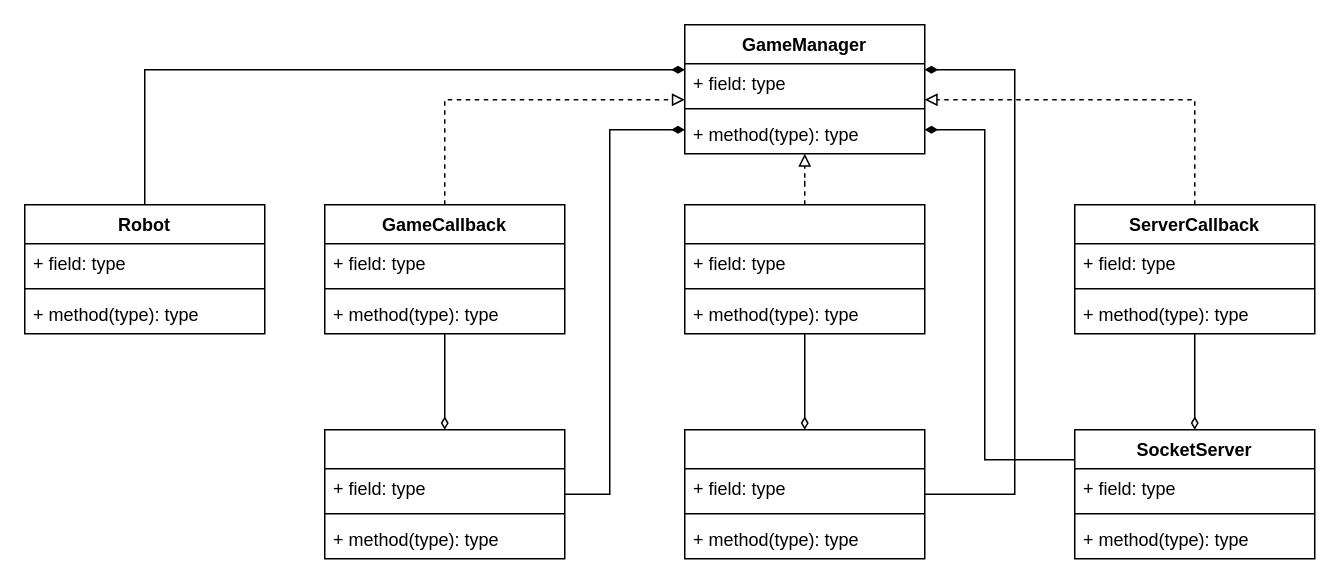
Some shapes in this 1340 by 584 pixel diagram are drawn without their labels. Here are the shapes that lost their labels. From the top down, the box of each, then its label:
(683, 203, 925, 334): UserInterfaceCallback
(323, 428, 565, 559): Game
(683, 428, 925, 559): UserInterface
